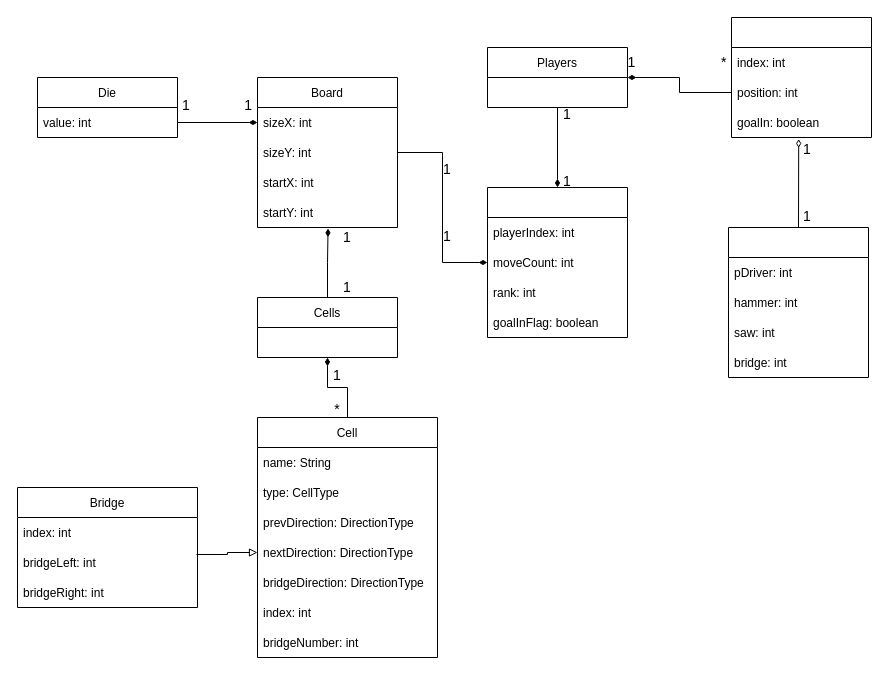
The diagram is 889 pixels wide and 675 high, and some of its shapes have lost their labels. Here are the shapes that lost their labels. From the top down, the box of each, then its label:
(730, 16, 872, 138): Player
(486, 186, 628, 338): BoardGame
(728, 226, 868, 378): Status
